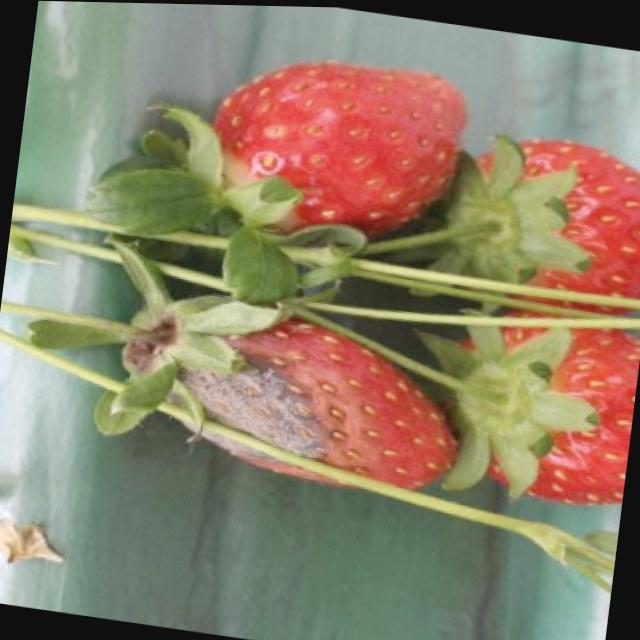Gray Mold: (177, 344, 329, 475)
